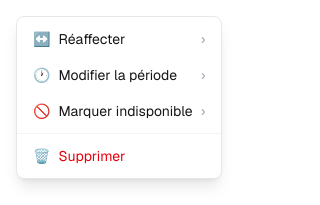
Scenario: MenuContextuelAffectation › Escape key handling (AC1) › should return to main menu when Escape is pressed on submenu
The image size is (320, 205).
# Navigate to reassign submenu
Click the text "Réaffecter" at (92, 39), box [58,29,125,49]
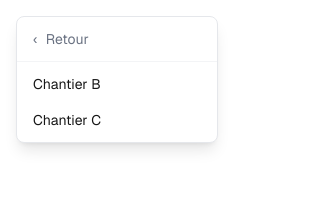
expect the text "Retour" is shown: met, box [46,29,89,49]
# Press Escape - should go back to main menu, not close
Press Escape
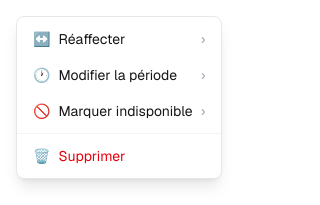
expect the text "Réaffecter" is shown: met, box [58,29,125,49]
